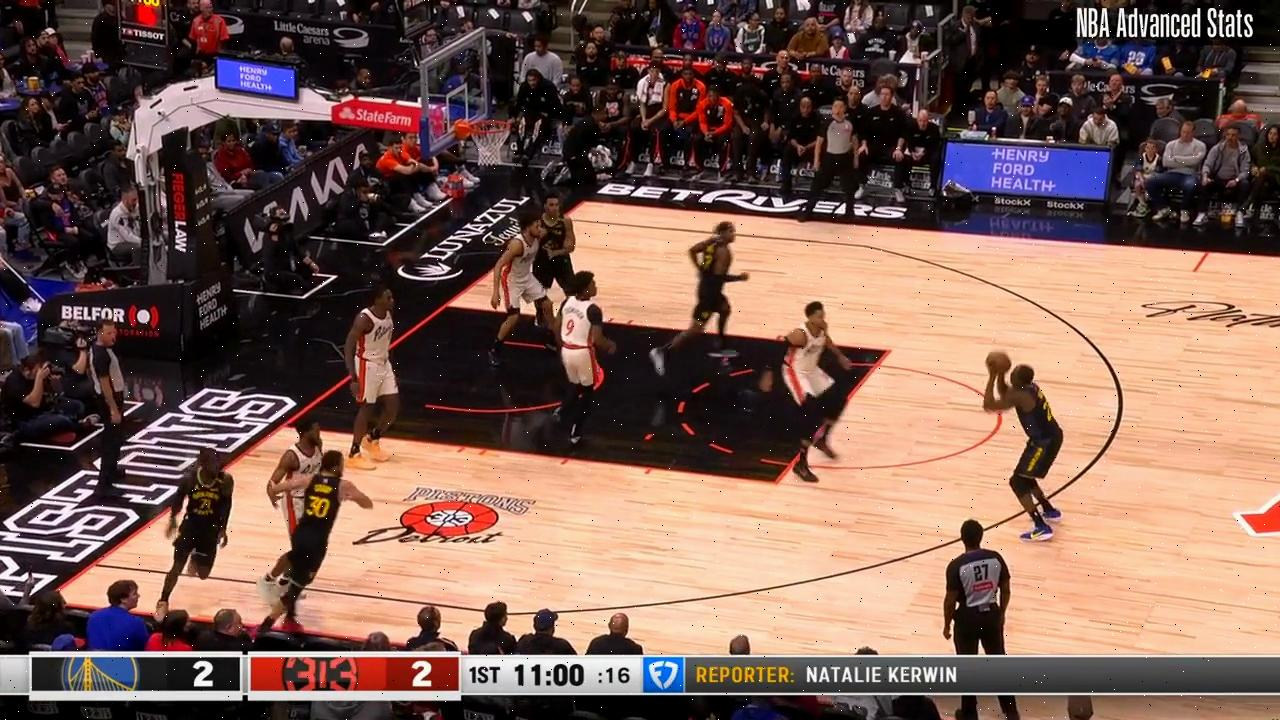basketball: (985, 351, 1010, 374)
